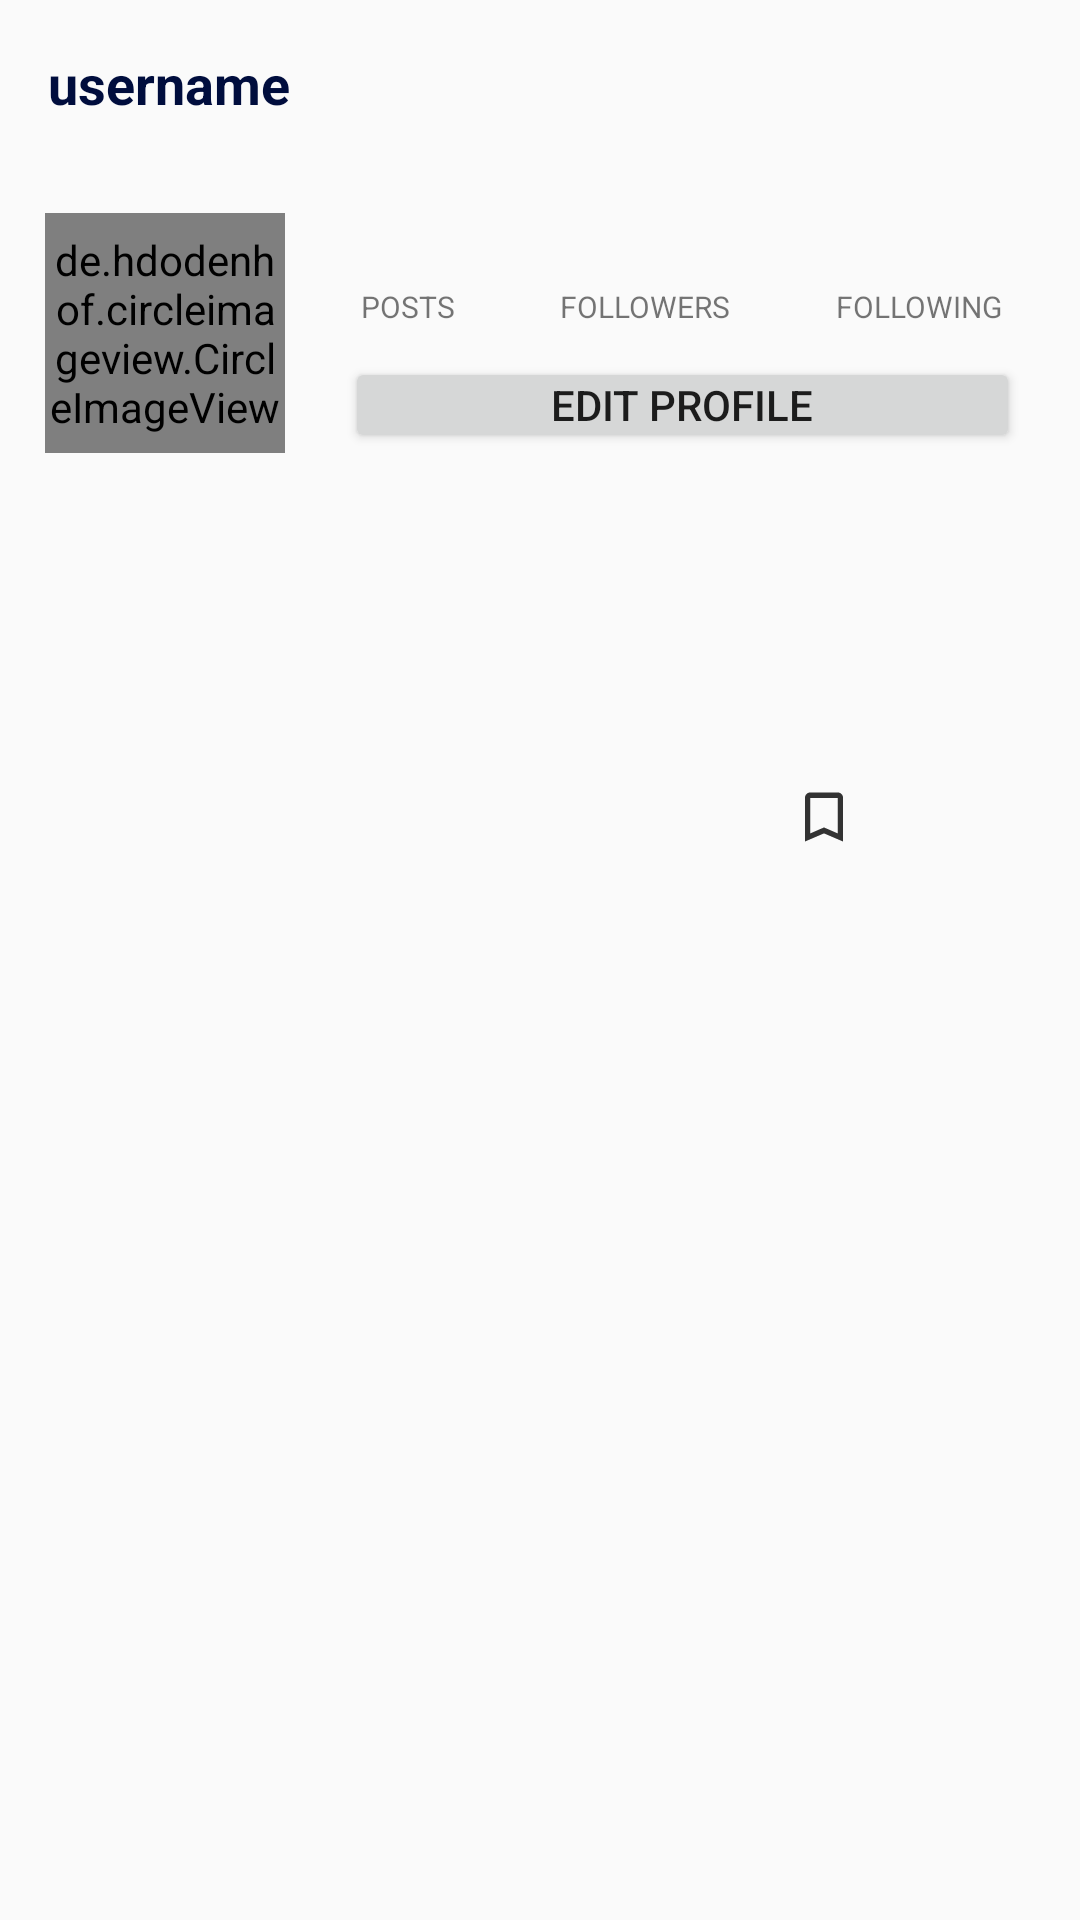

Icons on this 1080px x 1920px Android screen, each with its box as (x1, y1, x2, y2):
saved: (805, 792, 843, 842)
